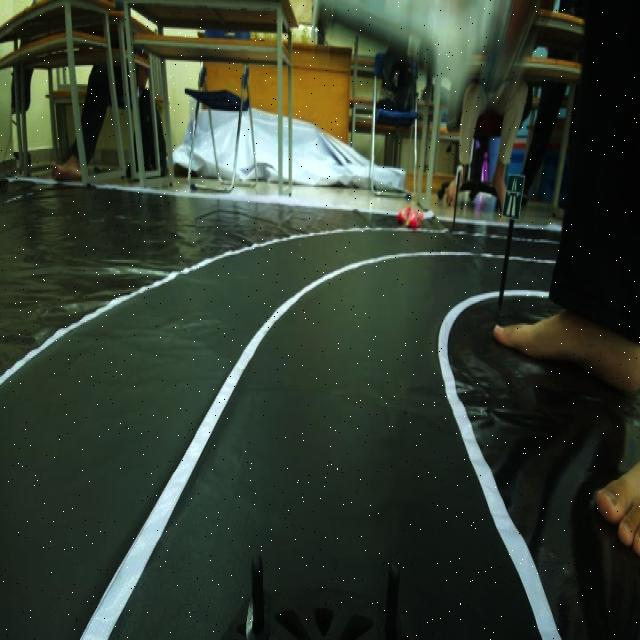highway_entry: (502, 160, 524, 222)
